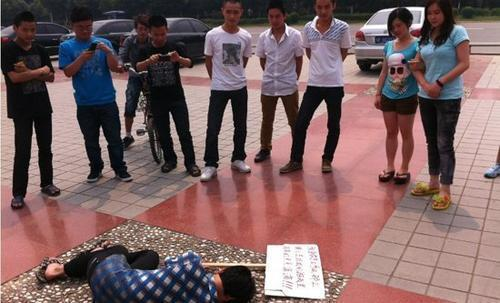Fall-Detected: (24, 231, 260, 303)
